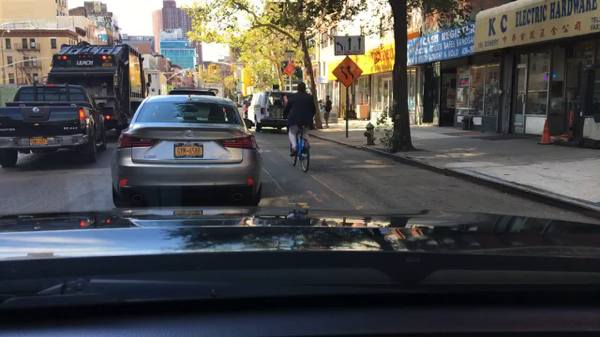bike: (283, 117, 315, 171)
car: (110, 95, 263, 207), (169, 87, 217, 97)
person: (320, 95, 333, 129)
rider: (281, 83, 317, 156)
traffic light: (207, 65, 212, 75), (230, 65, 235, 74), (237, 77, 240, 84), (214, 65, 216, 74), (187, 72, 190, 78)
traffic sign: (332, 56, 362, 87), (335, 35, 363, 55), (284, 60, 295, 74), (236, 92, 242, 94)
truck: (44, 41, 150, 137), (0, 84, 107, 168), (245, 91, 295, 132), (203, 82, 226, 98)
